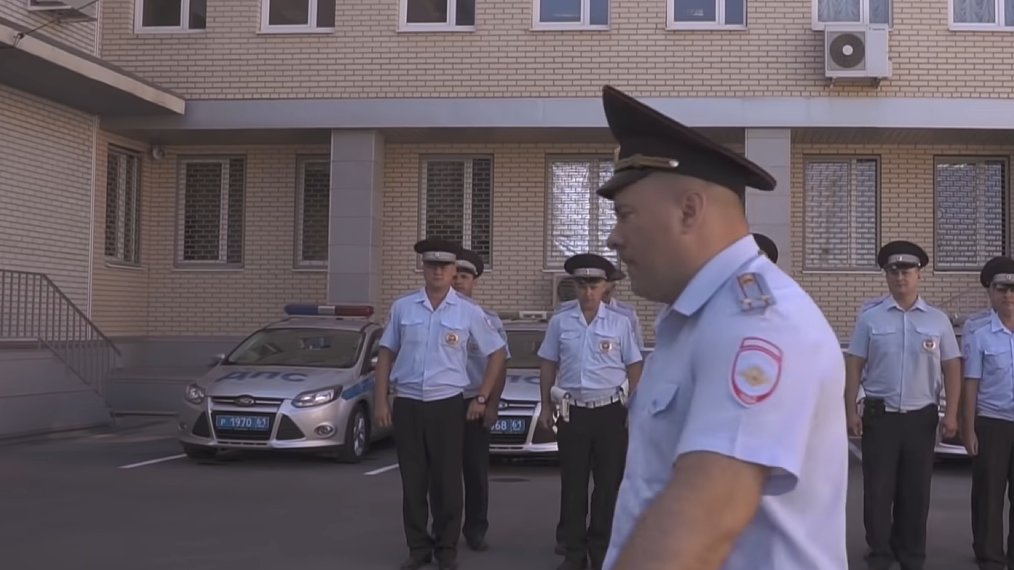police car: (181, 288, 395, 464), (485, 304, 565, 465)
